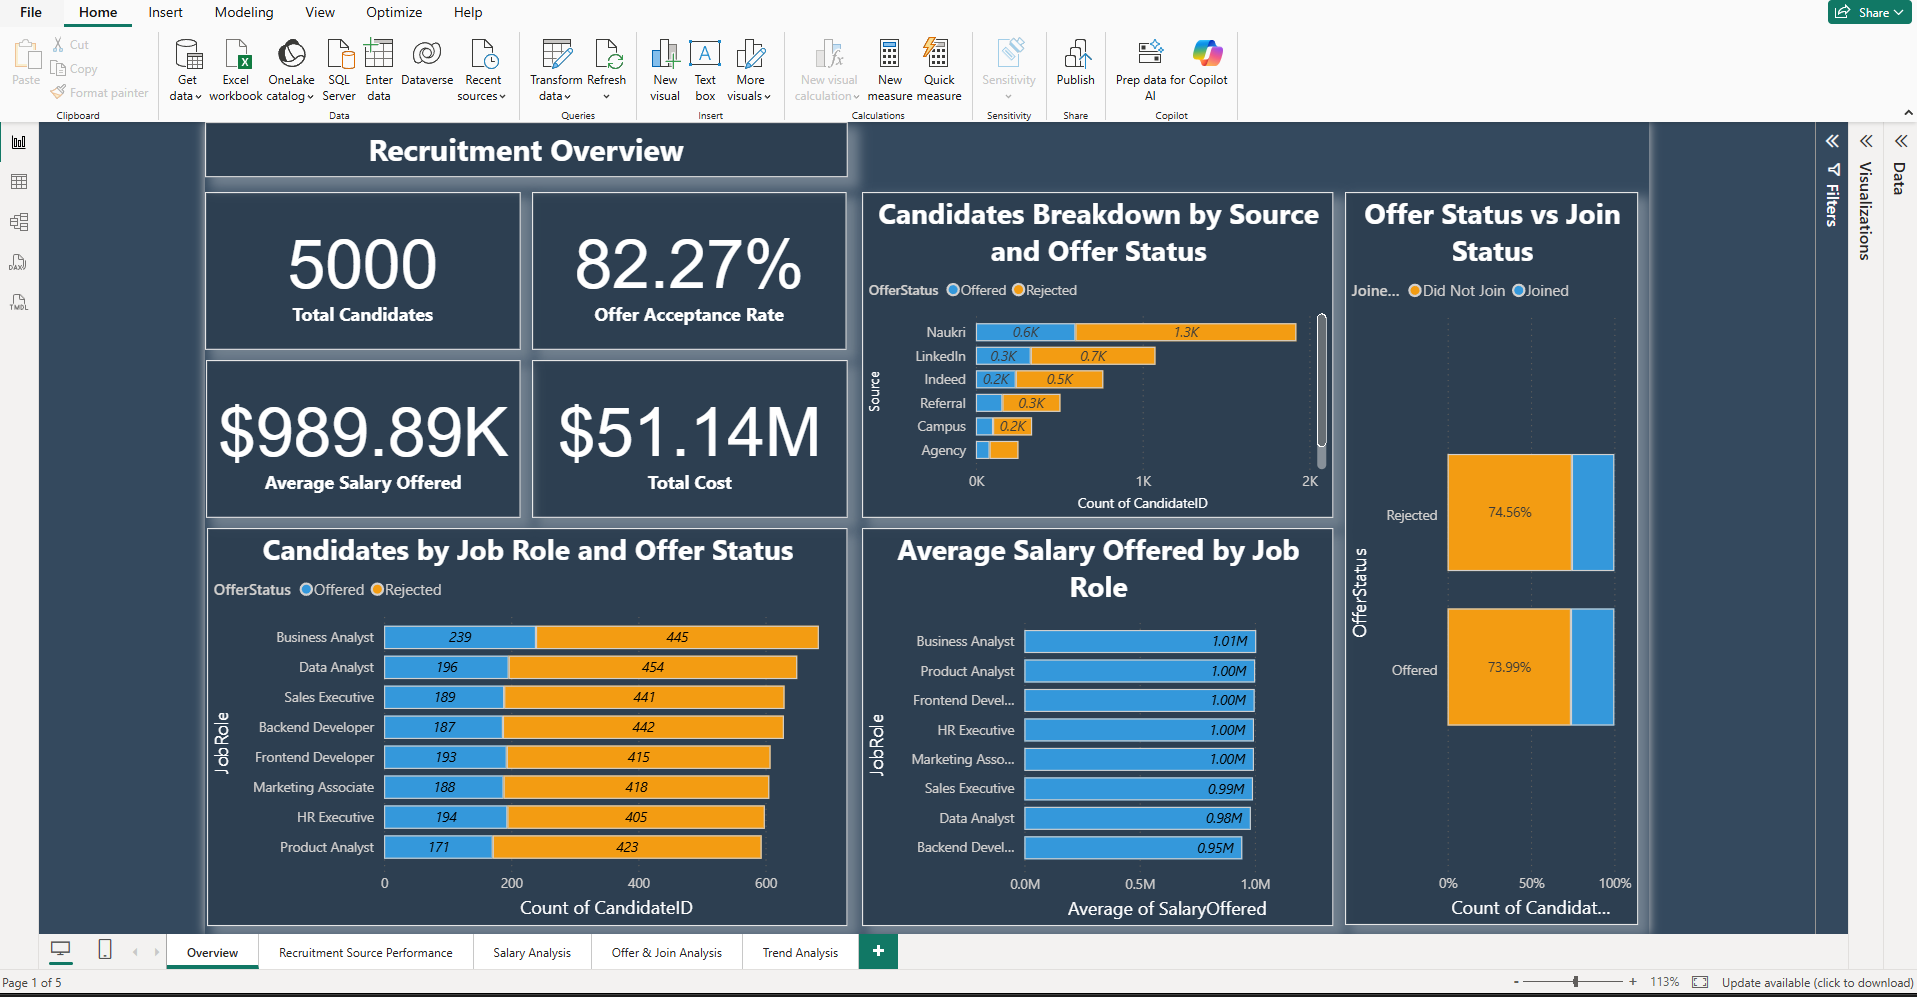

The dashboard page shown, as its layout file describes it:
{"tool":"powerbi","page":{"name":"Overview","canvas":[1280,720],"ordinal":0},"visuals":[{"type":"card","title":"Total Candidates","fields":{"Values":["talent_source_effectiveness_5000.Total Candidates"]},"box":[0,62,279.8,139.9],"z":0},{"type":"card","fields":{"Values":["talent_source_effectiveness_5000.Offer Acceptance Rate"]},"box":[289.8,62,278.8,139.9],"z":1000},{"type":"card","fields":{"Values":["talent_source_effectiveness_5000.Total Cost"]},"box":[289.8,210.8,279.8,139.9],"z":2000},{"type":"card","fields":{"Values":["talent_source_effectiveness_5000.Average Salary Offered"]},"box":[1,210.8,278.8,139.9],"z":3000},{"type":"textbox","box":[0,0,569.6,49],"z":4000},{"type":"barChart","title":"Candidates Breakdown by Source and Offer Status","fields":{"Category":["talent_source_effectiveness_5000.Source"],"Series":["talent_source_effectiveness_5000.OfferStatus"],"Y":["CountNonNull(talent_source_effectiveness_5000.CandidateID)"]},"box":[582.5,62,417.7,288.8],"z":5000},{"type":"barChart","title":"Candidates by Job Role and Offer Status","fields":{"Category":["talent_source_effectiveness_5000.JobRole"],"Y":["CountNonNull(talent_source_effectiveness_5000.CandidateID)"],"Series":["talent_source_effectiveness_5000.OfferStatus"]},"box":[2,359.7,567.6,352.7],"z":6000},{"type":"barChart","title":"Average Salary Offered by Job Role","fields":{"Category":["talent_source_effectiveness_5000.JobRole"],"Y":["Avg(talent_source_effectiveness_5000.SalaryOffered)"]},"box":[582.5,359.7,417.7,352.7],"z":7000},{"type":"hundredPercentStackedBarChart","title":"Offer Status vs Join Status","fields":{"Category":["talent_source_effectiveness_5000.OfferStatus"],"Series":["talent_source_effectiveness_5000.JoinedStatus"],"Y":["CountNonNull(talent_source_effectiveness_5000.CandidateID)"]},"box":[1011.2,62,259.8,650.5],"z":8000}]}

Visuals, with their boxes on the page's 1280x720 design canvas (x1, y1, x2, y2). These are canvas units, not pixel positions in the 1917x997 screenshot, which may show the page scaled, cropped or inside an application window:
"Total Candidates" card: (0,62,280,202)
card - talent_source_effectiveness_5000.Offer Acceptance Rate: (290,62,569,202)
card - talent_source_effectiveness_5000.Total Cost: (290,211,570,351)
card - talent_source_effectiveness_5000.Average Salary Offered: (1,211,280,351)
textbox: (0,0,570,49)
"Candidates Breakdown by Source and Offer Status" barChart: (582,62,1000,351)
"Candidates by Job Role and Offer Status" barChart: (2,360,570,712)
"Average Salary Offered by Job Role" barChart: (582,360,1000,712)
"Offer Status vs Join Status" hundredPercentStackedBarChart: (1011,62,1271,712)
